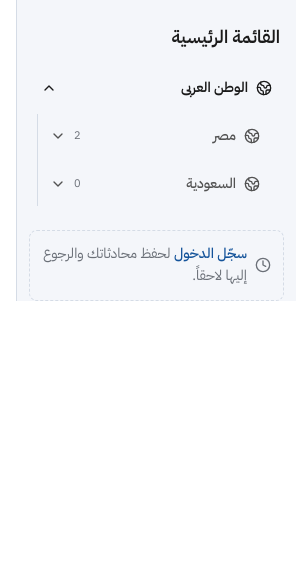
MainSidebar › فتح دولة يُظهر "المكتبة القانونية" بقوائم منسدلة ورابط اللوائح التنفيذية
Click the button "مصر 2" at (155, 136), box [38,114,272,158]
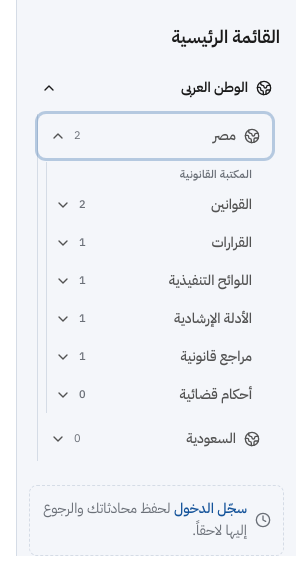
Expected: the text "المكتبة القانونية" is shown, [180,166,252,183]
